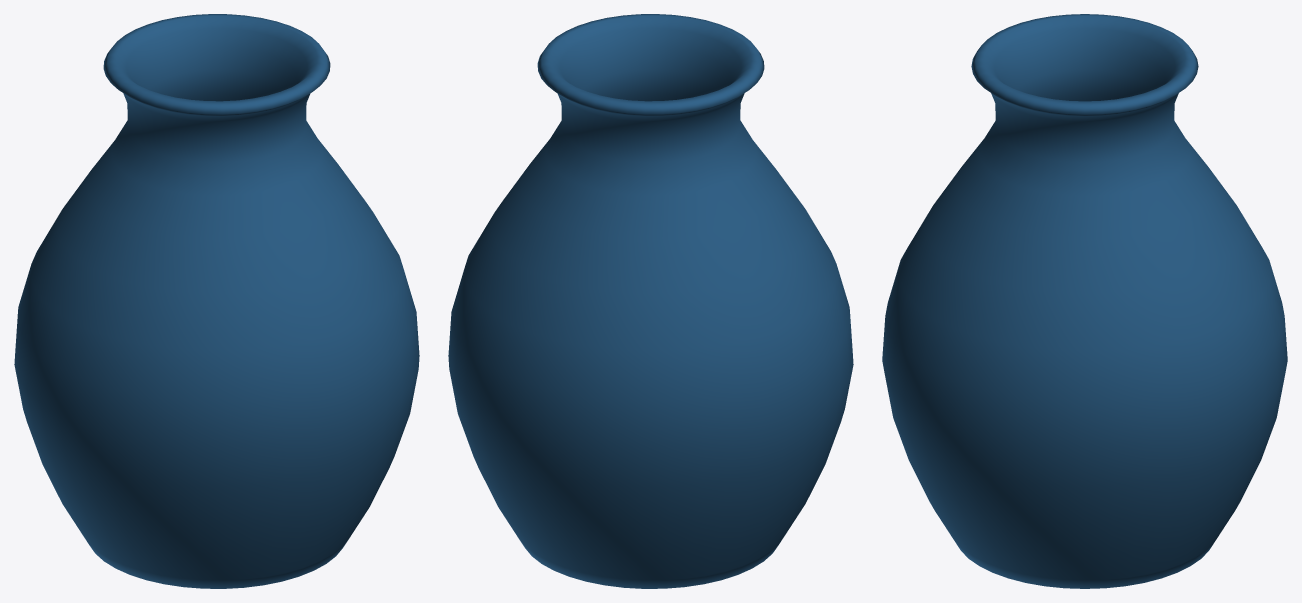
Rendered from vase.obj.
The picture shows the model from 3 angles, left to right: view 1: azimuth 30°, elevation 25°; view 2: azimuth 150°, elevation 25°; view 3: azimuth 270°, elevation 25°; orthographic projection.
Parts seen in each view (by area): view 1: vase; view 2: vase; view 3: vase.
Part boxes in pixels (x1=…): vase: x1=14, y1=14, x2=419, y2=588; vase: x1=448, y1=14, x2=853, y2=588; vase: x1=882, y1=14, x2=1287, y2=588.
Size of the model in its own units: 0.25 by 0.3256 by 0.25.
